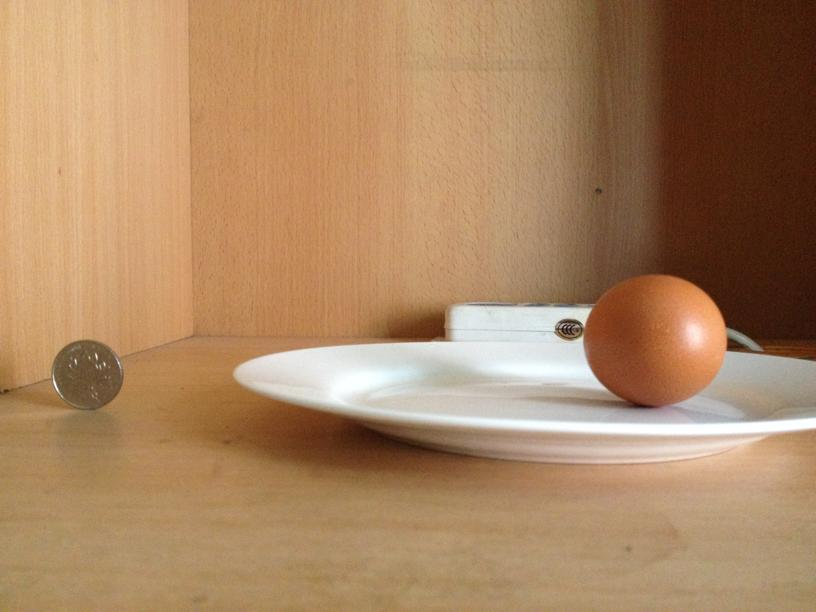coin: (50, 335, 124, 410)
egg: (585, 275, 724, 406)
